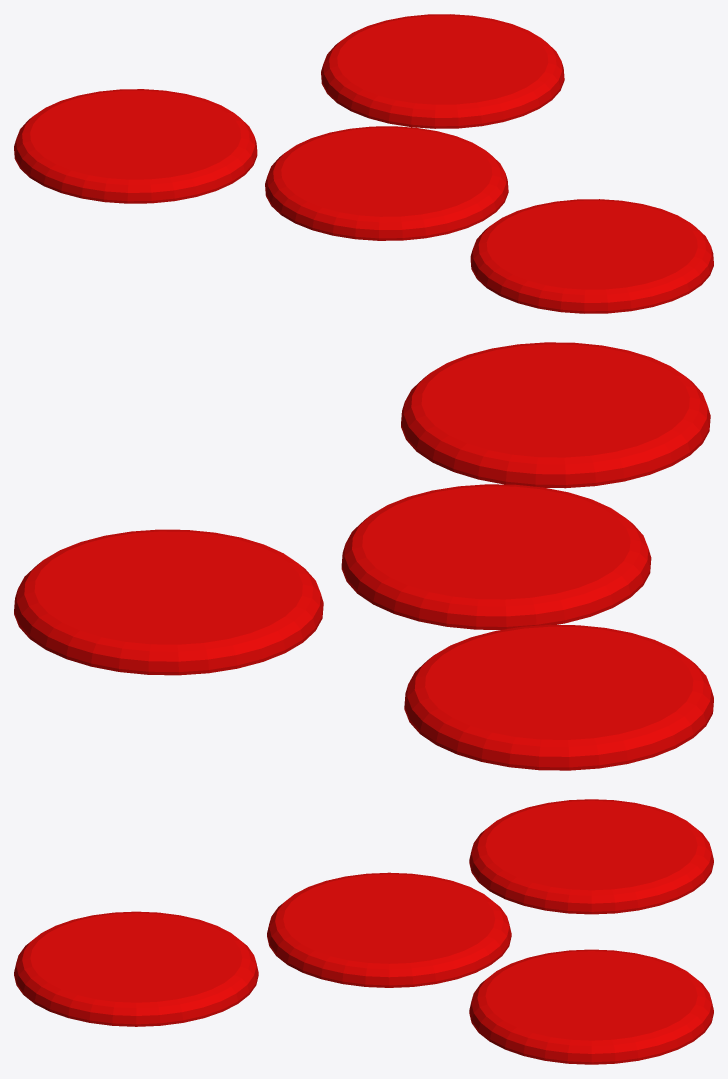
File: Tomates.glb
3 views of the same model, one above another, from view 1: azimuth 30°, elevation 25°; view 2: azimuth 150°, elevation 25°; view 3: azimuth 270°, elevation 25° (orthographic). The views are drawn at different scales.
Visible parts, largest first — view 1: Cylinder.003, Cylinder.002, Cylinder, Cylinder.001; view 2: Cylinder.001, Cylinder, Cylinder.002, Cylinder.003; view 3: Cylinder, Cylinder.002, Cylinder.001, Cylinder.003.
Boxes of the visible parts, bbox=[...] form: Cylinder.003: bbox=[265, 126, 508, 240]; Cylinder.002: bbox=[470, 199, 713, 313]; Cylinder: bbox=[14, 89, 257, 203]; Cylinder.001: bbox=[321, 14, 564, 128]; Cylinder.001: bbox=[14, 529, 323, 675]; Cylinder: bbox=[404, 624, 713, 770]; Cylinder.002: bbox=[401, 342, 710, 488]; Cylinder.003: bbox=[341, 484, 651, 629]; Cylinder: bbox=[469, 799, 713, 914]; Cylinder.002: bbox=[14, 911, 258, 1026]; Cylinder.001: bbox=[469, 949, 713, 1064]; Cylinder.003: bbox=[267, 872, 511, 987].
Bounding box in the file's own units: 4.91 × 0.1555 × 5.72.
